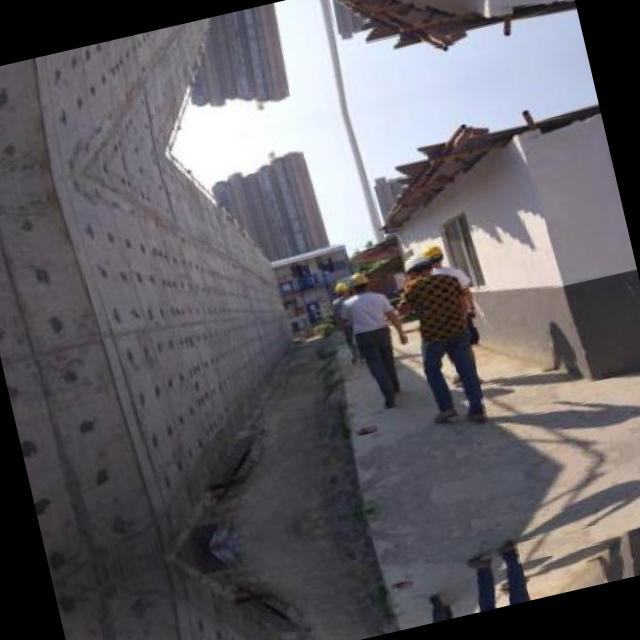helmet: (400, 250, 436, 285), (421, 239, 448, 272), (344, 262, 371, 294), (332, 277, 353, 302)
